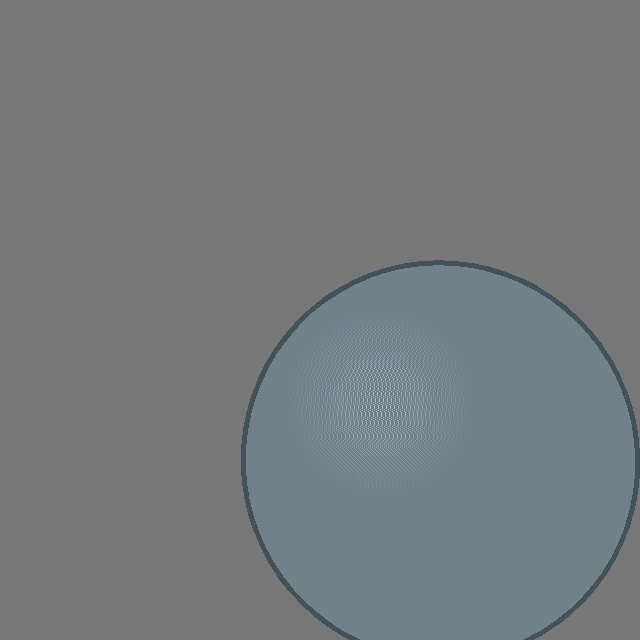lens: (244, 263, 636, 640)
